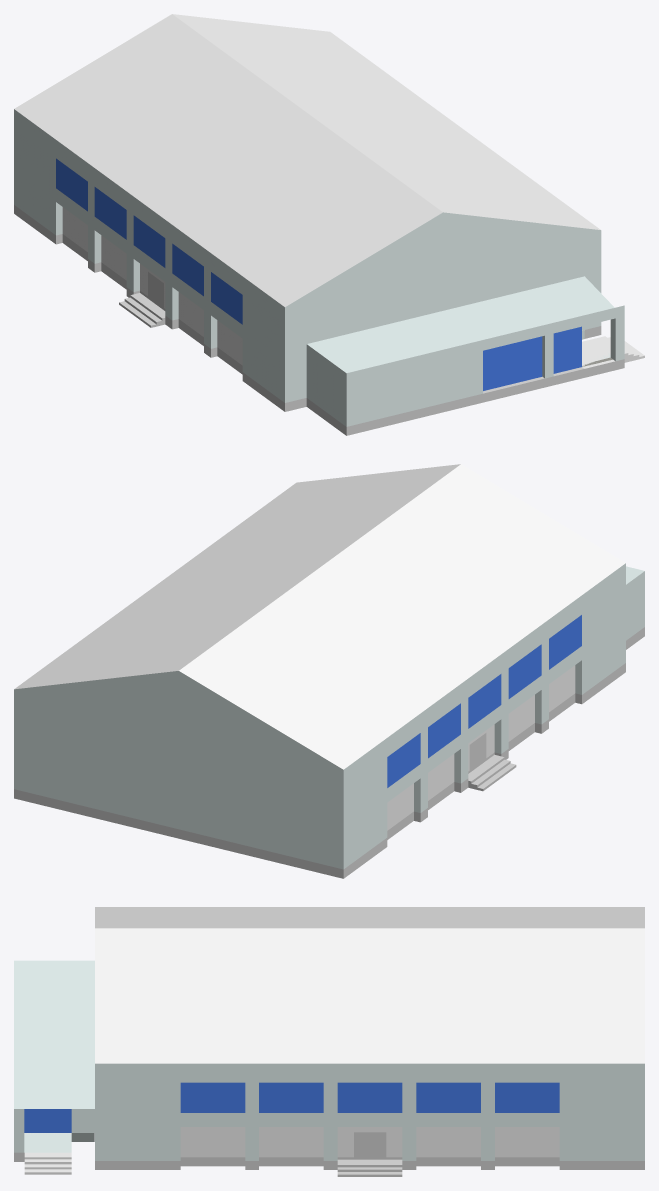
Rendered from taikukan_m.glb.
3 renders of one model, top to bottom at view 1: azimuth 30°, elevation 25°; view 2: azimuth 150°, elevation 25°; view 3: azimuth 270°, elevation 25°, orthographic. The views are drawn at different scales.
Parts seen in each view (by area): view 1: 体育館; view 2: 体育館; view 3: 体育館.
Boxes of the visible parts, bbox=[...] form: 体育館: bbox=[14, 14, 644, 435]; 体育館: bbox=[14, 464, 644, 878]; 体育館: bbox=[14, 907, 644, 1176].
Size of the model in its own units: 6.88 by 3.08 by 10.76.
Materials: 1 (1 with a texture image).
